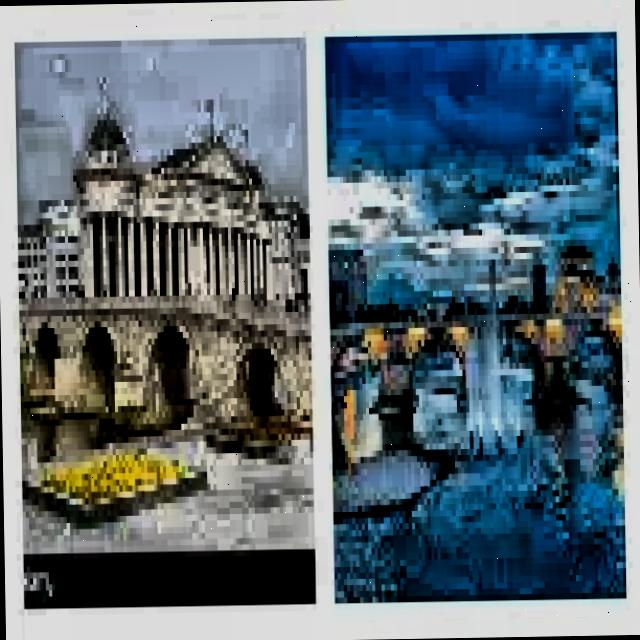stone bridge: (17, 270, 311, 448), (326, 286, 622, 416)
